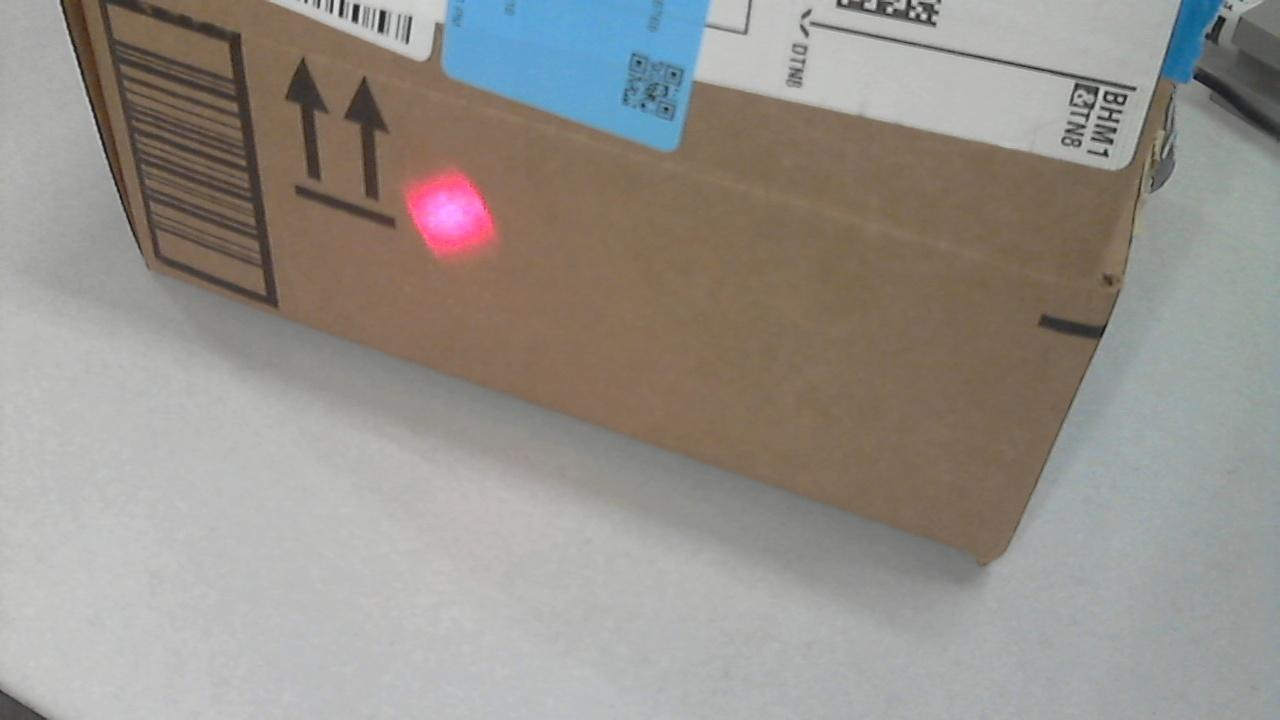Object cardboard shipping box - Material composite - Color brown - Pdfname OHMlP: (372, 145, 517, 287)
